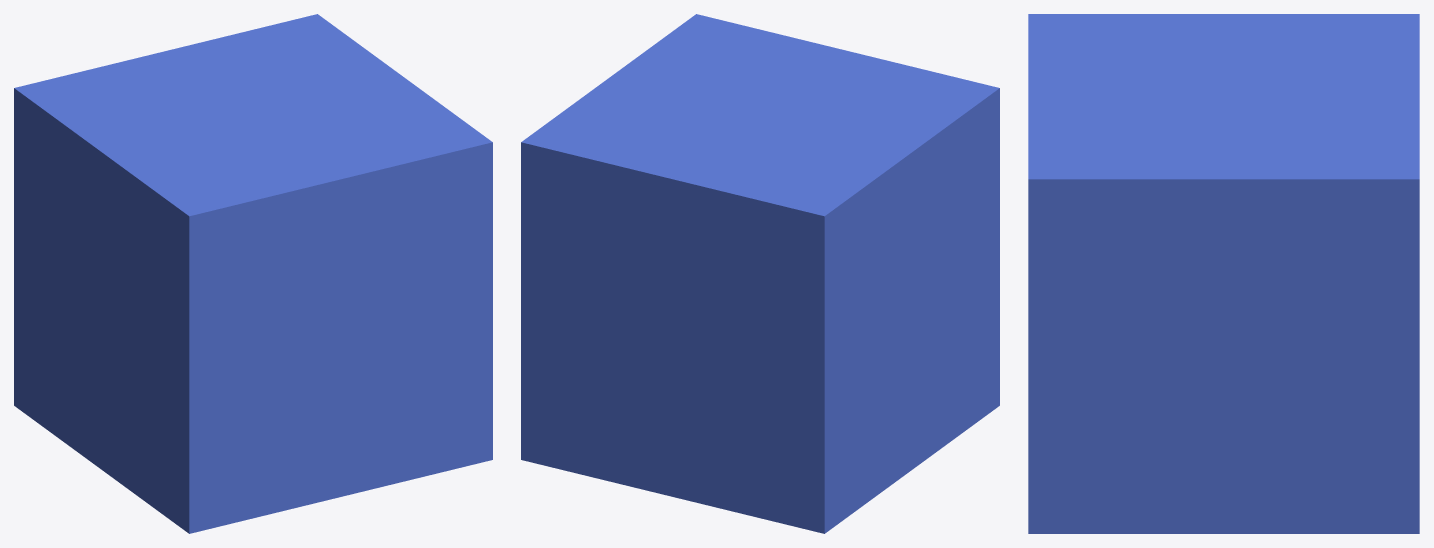
The model's file is cube-explosion.glb.
The picture shows the model from 3 angles, left to right: view 1: azimuth 30°, elevation 25°; view 2: azimuth 150°, elevation 25°; view 3: azimuth 270°, elevation 25°; orthographic projection. The views are drawn at different scales.
Parts seen in each view (by area): view 1: Cube; view 2: Cube; view 3: Cube.
Boxes of the visible parts, x1=… form: Cube: x1=14, y1=14, x2=492, y2=533; Cube: x1=521, y1=14, x2=999, y2=533; Cube: x1=1028, y1=14, x2=1419, y2=533.
Bounding box in the file's own units: 2 × 2 × 2.
